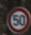Speed Limit -50-: (0, 0, 30, 34)
